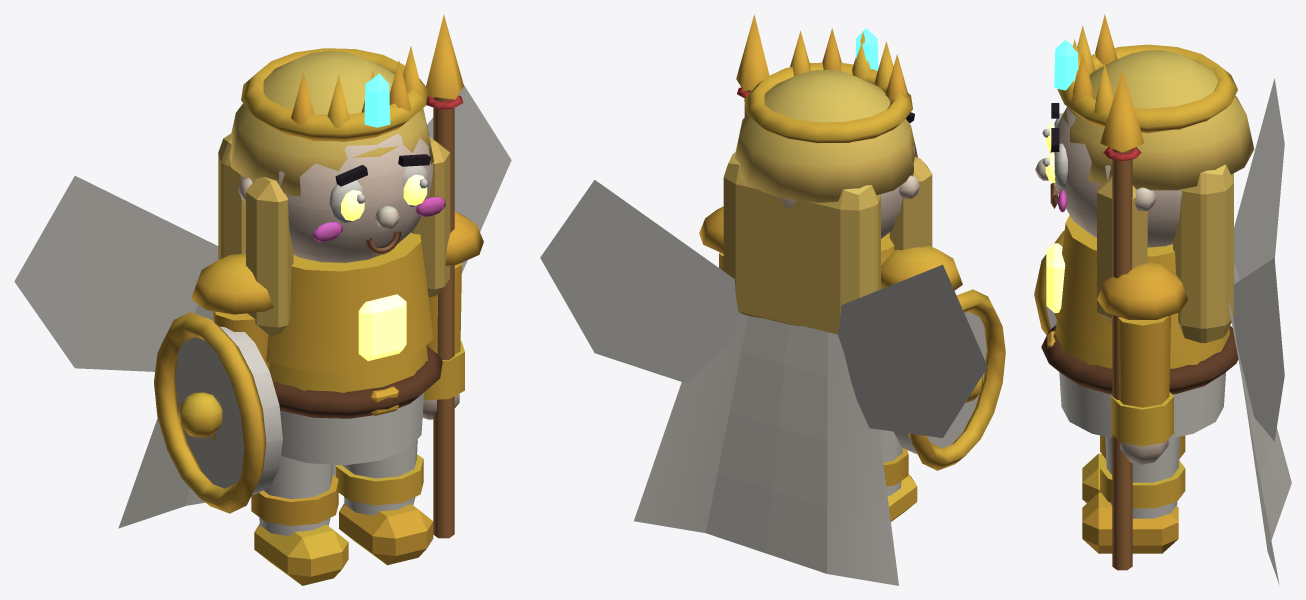
Rendered from hero_aegis.glb.
3 views of the same model, side by side, from view 1: azimuth 30°, elevation 25°; view 2: azimuth 150°, elevation 25°; view 3: azimuth 270°, elevation 25° (orthographic). The views are drawn at different scales.
Visible parts, largest first — view 1: body_t0_palette, arml_t0_palette, armr_t0_palette, legl_t0_palette, legr_t0_palette, body_t0_glow_gold, body_t0_crystal; view 2: body_t0_palette, arml_t0_palette, armr_t0_palette, legl_t0_palette, body_t0_crystal; view 3: body_t0_palette, armr_t0_palette, legr_t0_palette, body_t0_glow_gold, legl_t0_palette, body_t0_crystal, arml_t0_palette.
Part boxes in pixels (x1,y1,x2,y2): body_t0_palette: [14, 46, 511, 528]; arml_t0_palette: [154, 253, 282, 513]; armr_t0_palette: [422, 14, 483, 538]; legl_t0_palette: [251, 456, 348, 585]; legr_t0_palette: [336, 439, 433, 565]; body_t0_glow_gold: [341, 174, 427, 360]; body_t0_crystal: [364, 73, 390, 127]; body_t0_palette: [540, 28, 987, 585]; arml_t0_palette: [881, 245, 1005, 470]; armr_t0_palette: [699, 14, 769, 270]; legl_t0_palette: [879, 429, 917, 521]; body_t0_crystal: [855, 28, 878, 70]; body_t0_palette: [1035, 14, 1291, 584]; armr_t0_palette: [1097, 70, 1188, 570]; legr_t0_palette: [1082, 436, 1185, 553]; body_t0_glow_gold: [1045, 123, 1065, 312]; legl_t0_palette: [1082, 435, 1185, 503]; body_t0_crystal: [1054, 40, 1078, 90]; arml_t0_palette: [1034, 230, 1064, 335].
Bounding box in the file's own units: 0.54 × 0.545 × 0.254.
